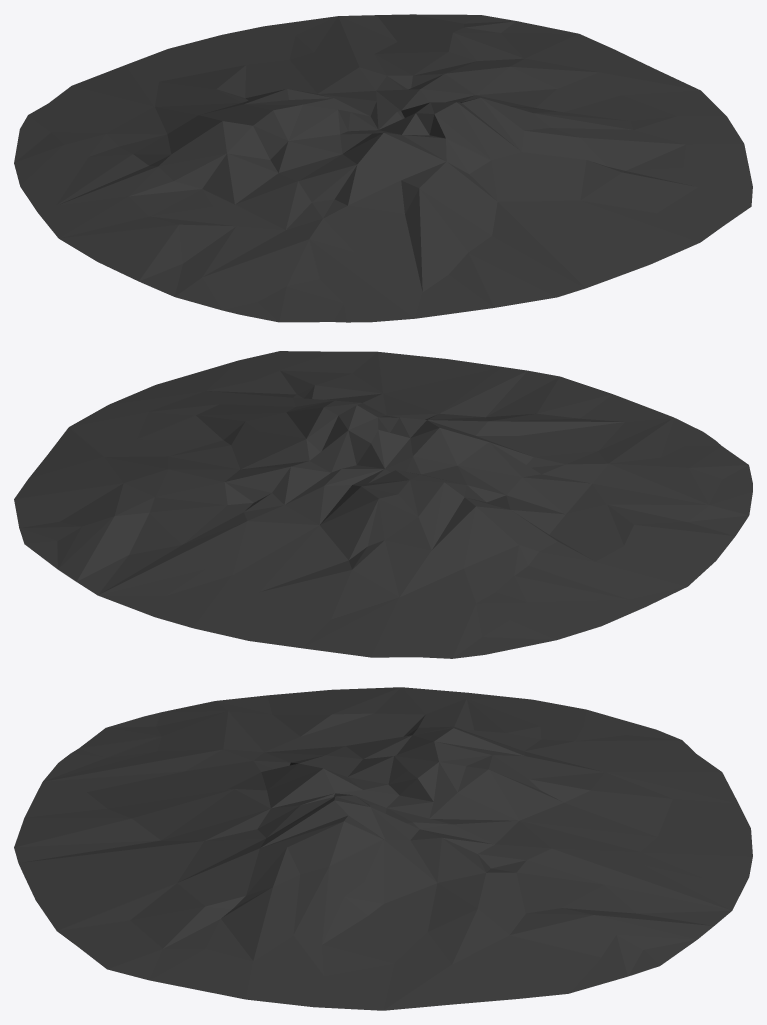
File: SM_Env_Background_Hills_01.fbx
3 views of the same model, one above another, from view 1: azimuth 30°, elevation 25°; view 2: azimuth 150°, elevation 25°; view 3: azimuth 270°, elevation 25° (orthographic). The views are drawn at different scales.
Visible parts, largest first — view 1: SM_Env_Background_Hills_01; view 2: SM_Env_Background_Hills_01; view 3: SM_Env_Background_Hills_01.
Boxes of the visible parts, x1,y1,x2,y2 form: SM_Env_Background_Hills_01: (14,14,752,322); SM_Env_Background_Hills_01: (14,351,752,658); SM_Env_Background_Hills_01: (14,687,752,1010).
Size of the model in its own units: 25941 by 2758 by 25034.
